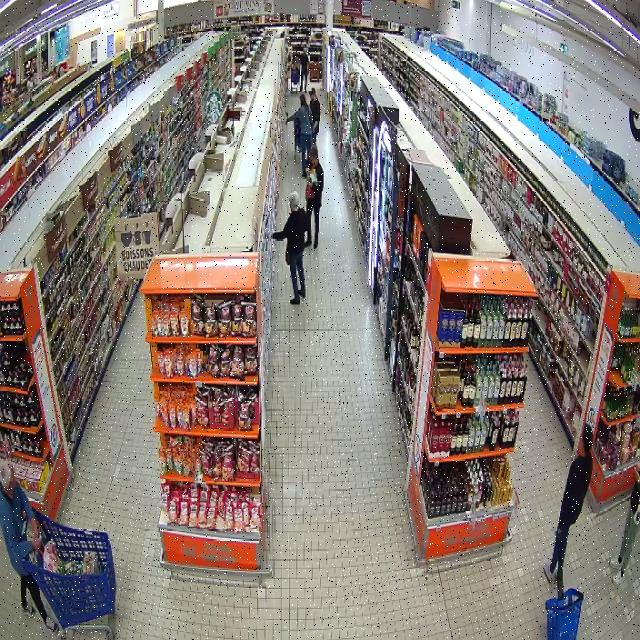hands: (28, 517, 40, 537), (32, 537, 42, 552)
person: (0, 460, 58, 632), (544, 427, 593, 582), (272, 191, 306, 304)
